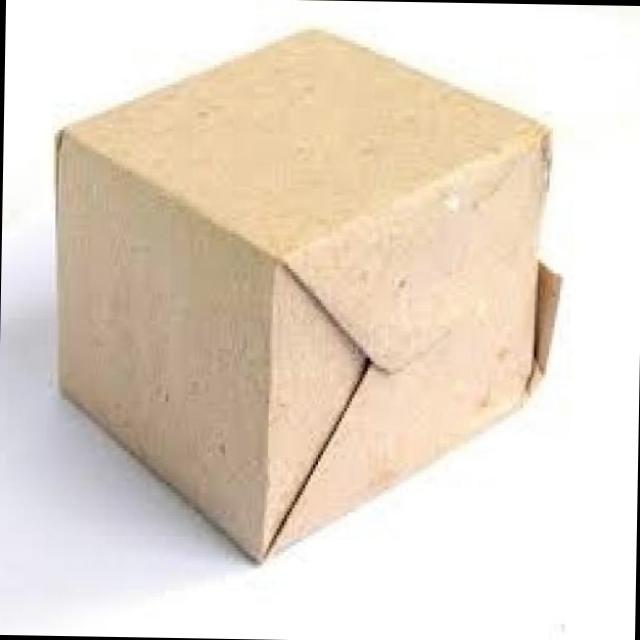cardboard paper: (58, 30, 558, 557)
